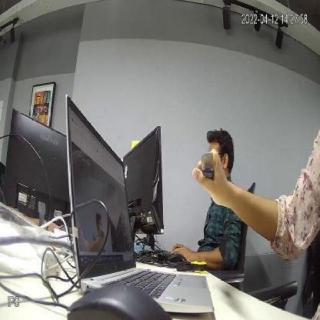knife: (195, 148, 217, 182)
